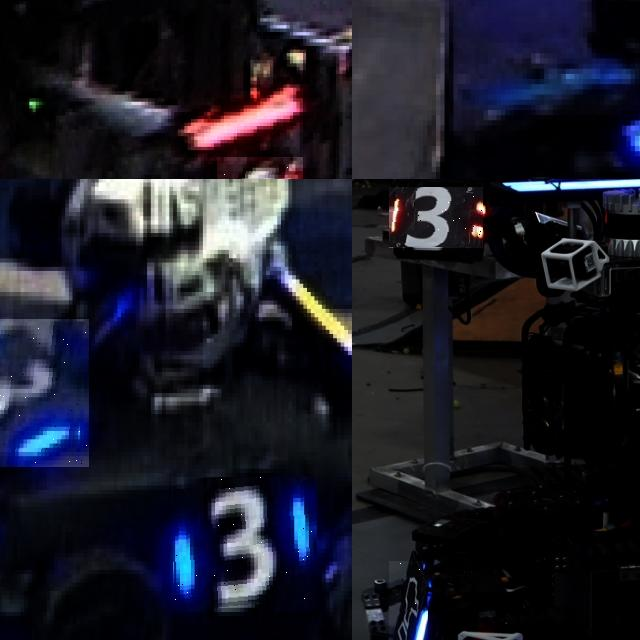B3: (171, 477, 317, 612), (0, 319, 89, 466)
Bs: (389, 560, 427, 640)
R2: (217, 157, 303, 179)
R3: (389, 188, 483, 250)
